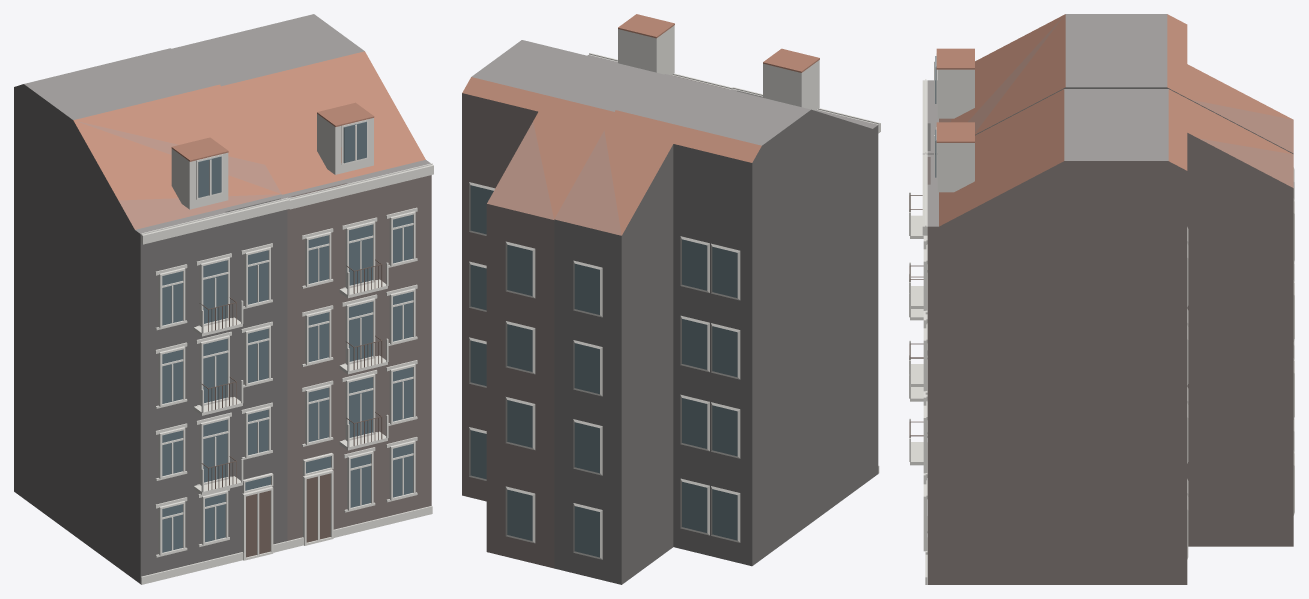
File: chunk-face-transvaal-3-47-r1.glb
3 views of the same model, side by side, from view 1: azimuth 30°, elevation 25°; view 2: azimuth 150°, elevation 25°; view 3: azimuth 270°, elevation 25° (orthographic). The views are drawn at different scales.
Parts seen in each view (by area): view 1: face-transvaal-3-47-r1; view 2: face-transvaal-3-47-r1; view 3: face-transvaal-3-47-r1.
Part boxes in pixels (x1=…): face-transvaal-3-47-r1: x1=14, y1=14, x2=433, y2=584; face-transvaal-3-47-r1: x1=462, y1=14, x2=880, y2=584; face-transvaal-3-47-r1: x1=909, y1=14, x2=1294, y2=584.
Size of the model in its own units: 12.04 by 16.4 by 13.48.
